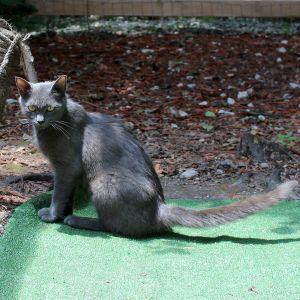rblue: (9, 71, 79, 140)
